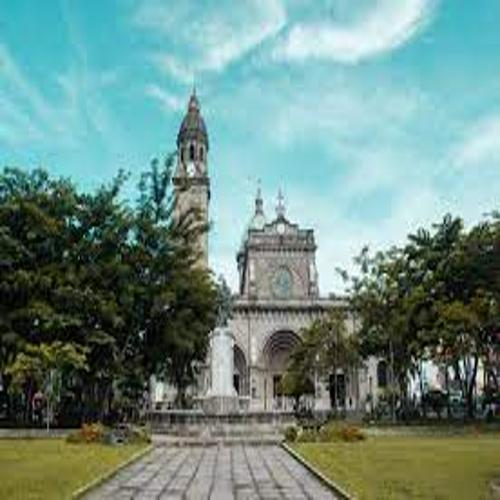Manila Cathedral Church: (124, 79, 374, 429)
